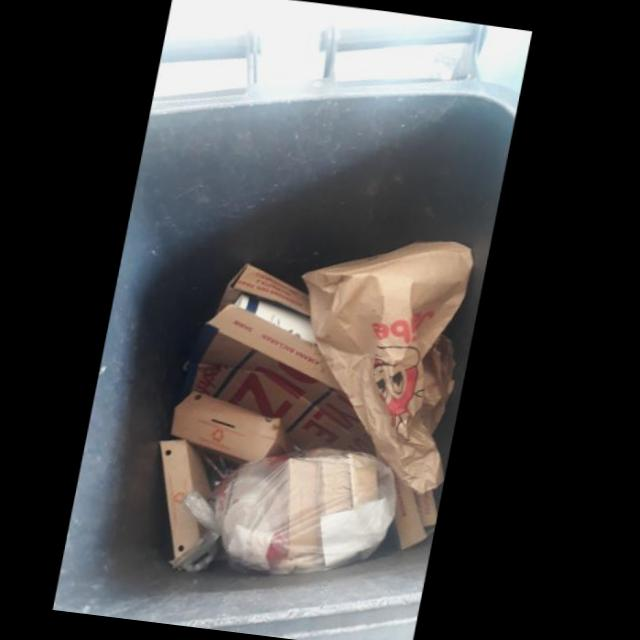carton: (189, 262, 384, 454), (178, 390, 301, 464), (167, 439, 220, 559), (239, 293, 321, 344), (402, 474, 445, 549)
giay: (306, 240, 477, 496)
tui_ni_long: (182, 447, 405, 575)
